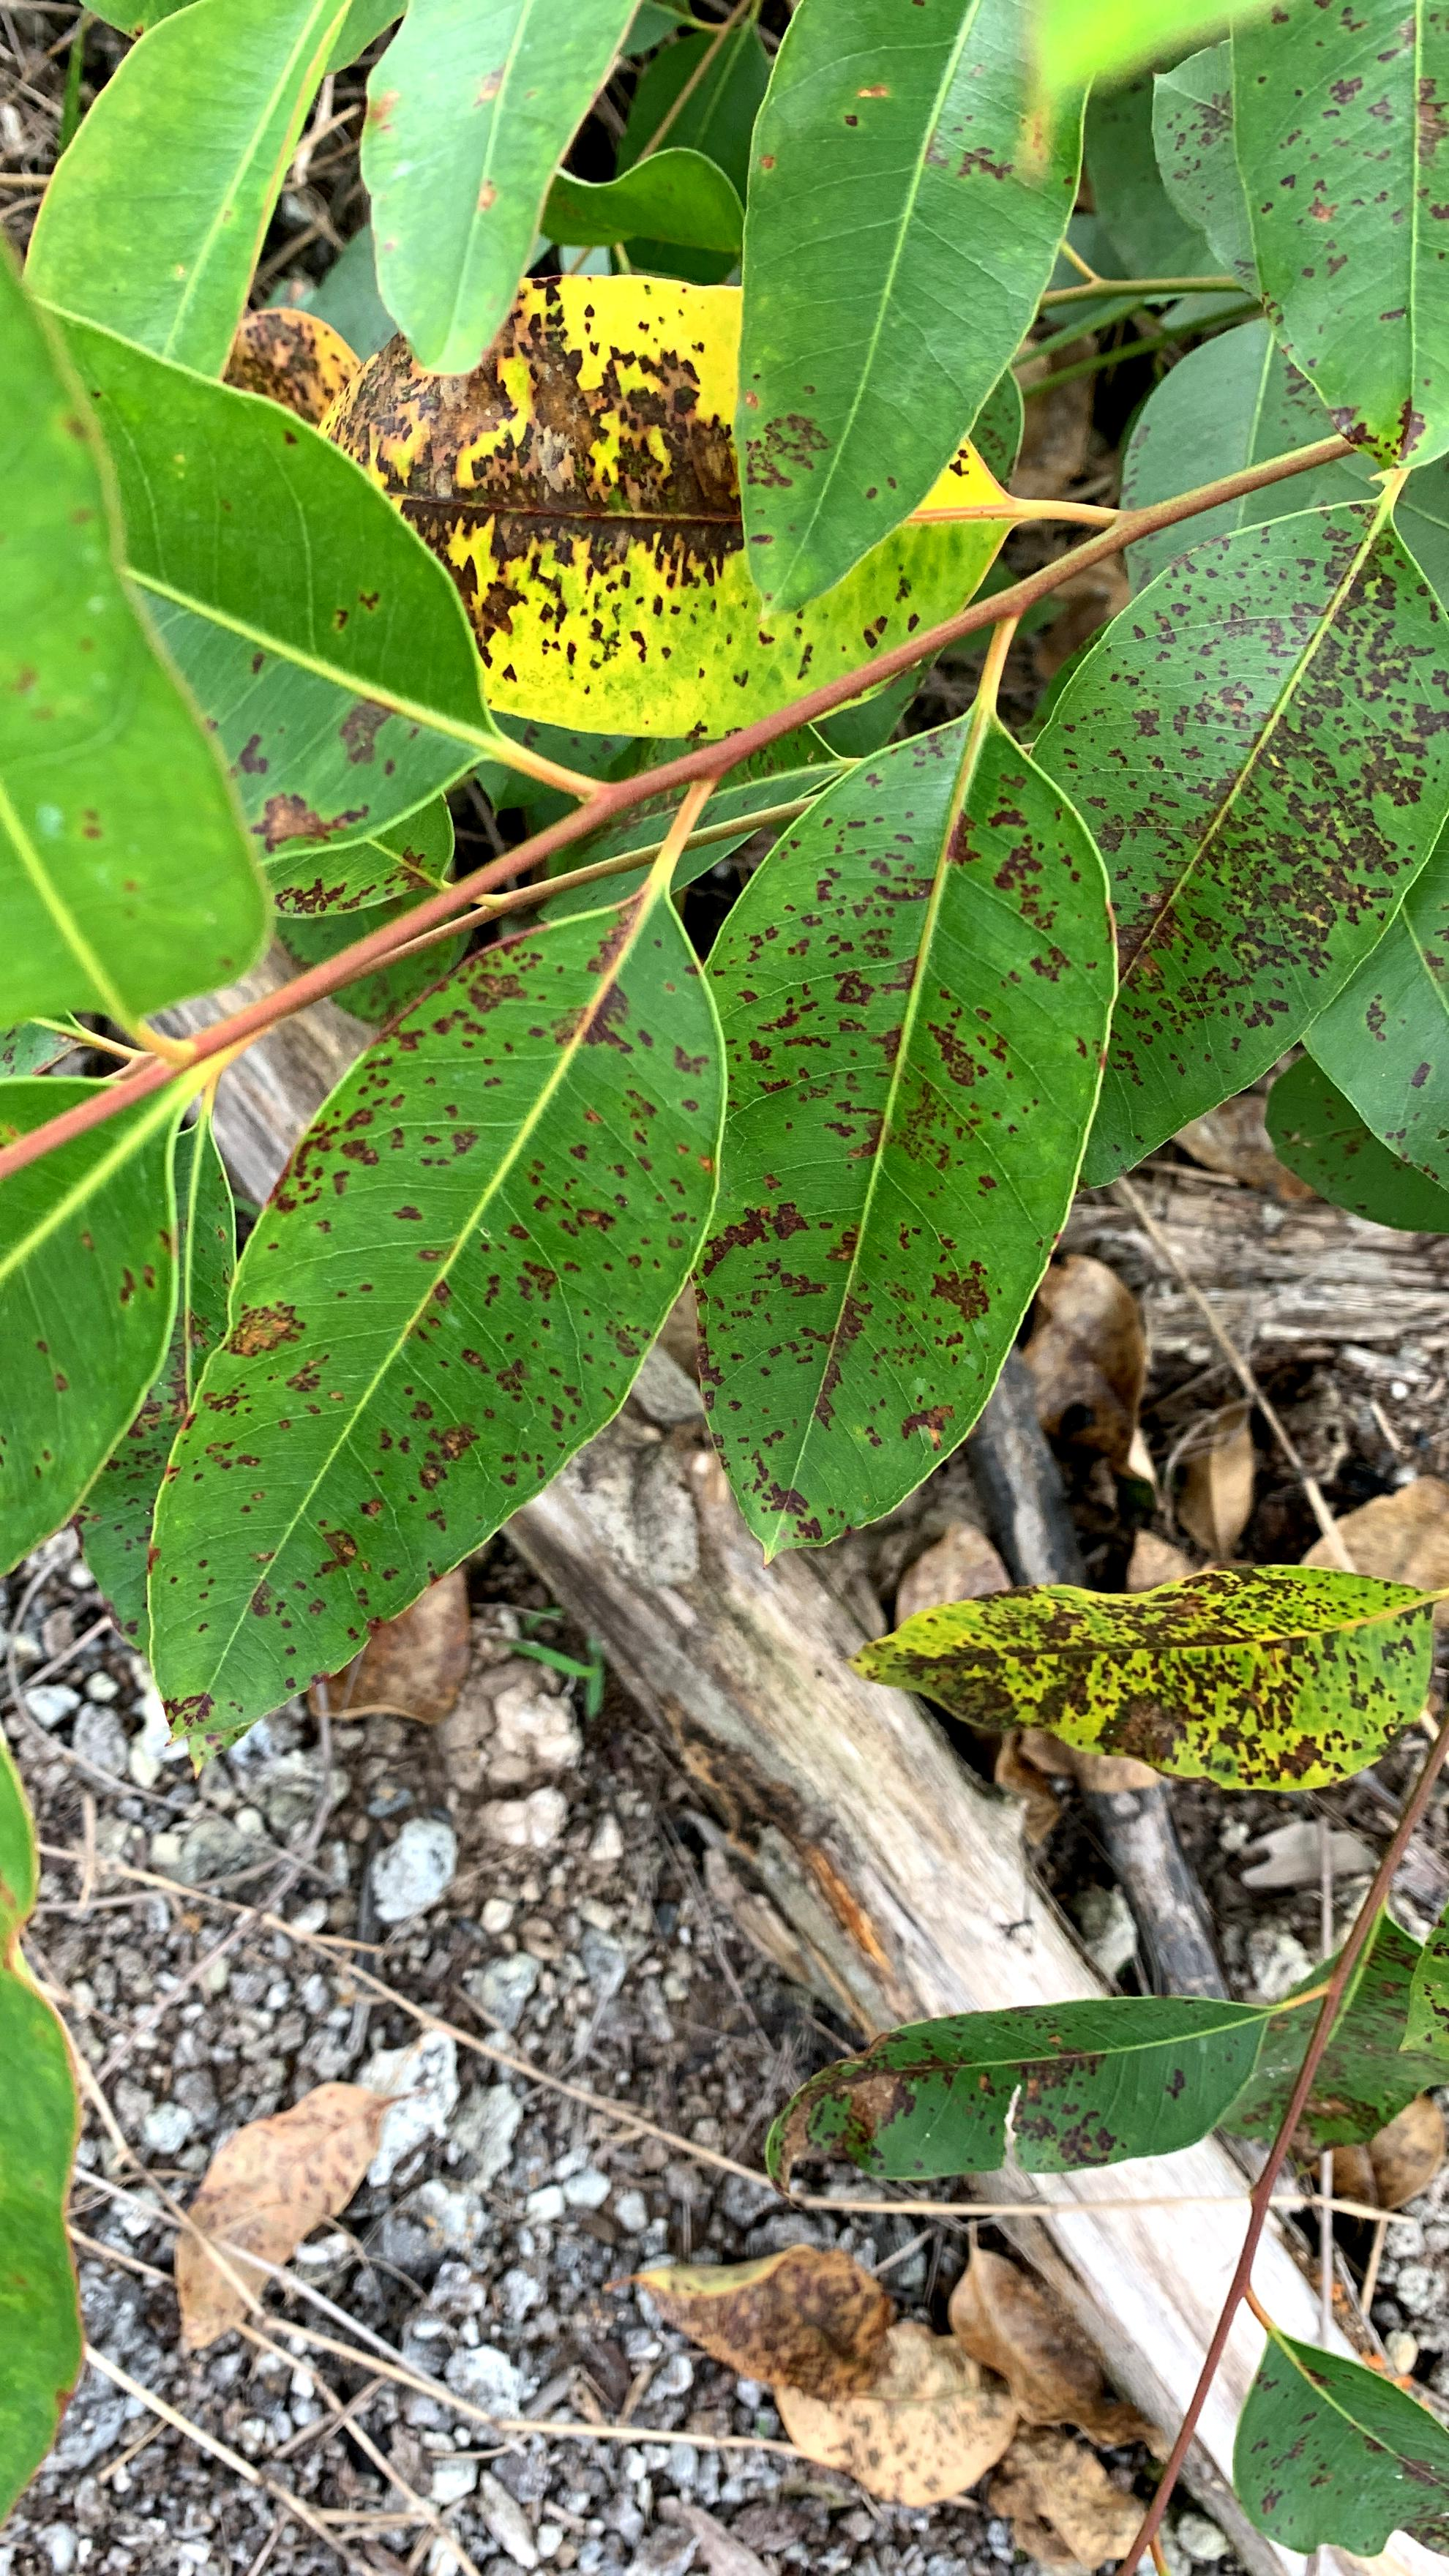Xanthomonas: (115, 893, 697, 1753), (688, 743, 1099, 1523), (338, 253, 796, 732), (1074, 495, 1449, 1062), (847, 1539, 1449, 1801), (754, 1967, 1150, 2213), (221, 292, 373, 446)
